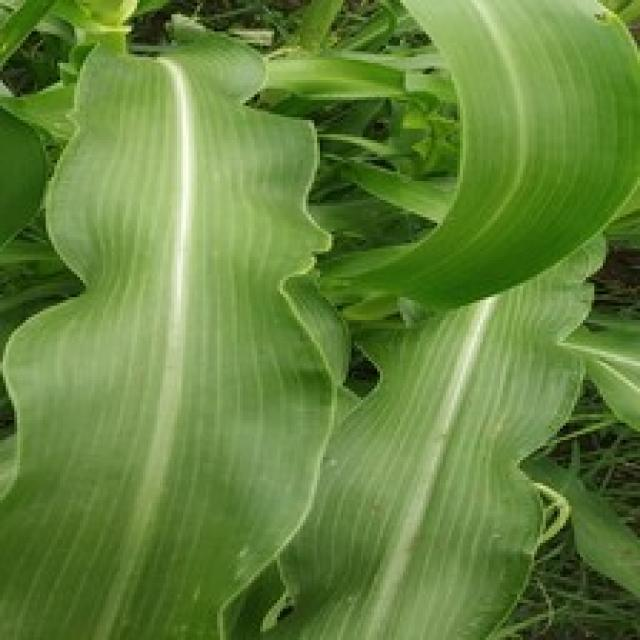Corn: (0, 0, 637, 637), (245, 229, 606, 637), (311, 0, 637, 311), (520, 452, 637, 637), (0, 63, 49, 297)
